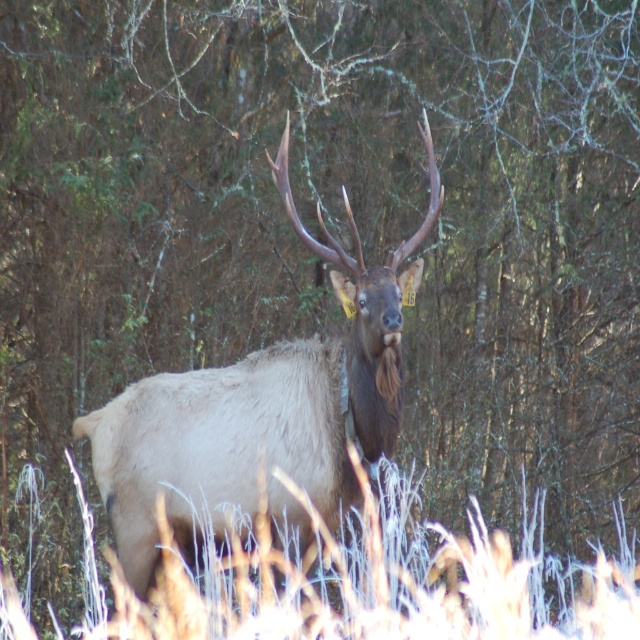Deer: (71, 108, 444, 640)
